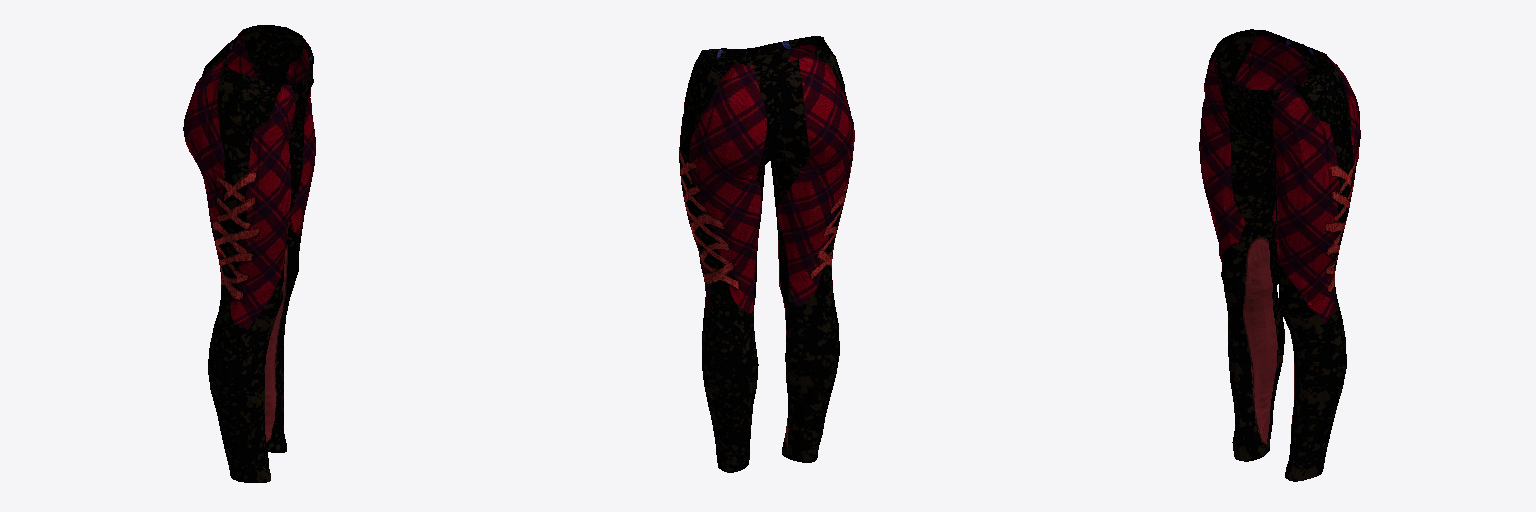
3 views of the same model, side by side, from view 1: azimuth 30°, elevation 25°; view 2: azimuth 150°, elevation 25°; view 3: azimuth 270°, elevation 25° (orthographic).
Visible parts, largest first — view 1: Rocker_Jeans 2; view 2: Rocker_Jeans 2; view 3: Rocker_Jeans 2.
Part boxes in pixels (x1,y1,x2,y2): Rocker_Jeans 2: (183,25,315,482); Rocker_Jeans 2: (679,36,854,472); Rocker_Jeans 2: (1199,29,1360,481).
Bounding box in the file's own units: 34.7 × 99.91 × 35.25.
Materials: 1 (1 with a texture image).